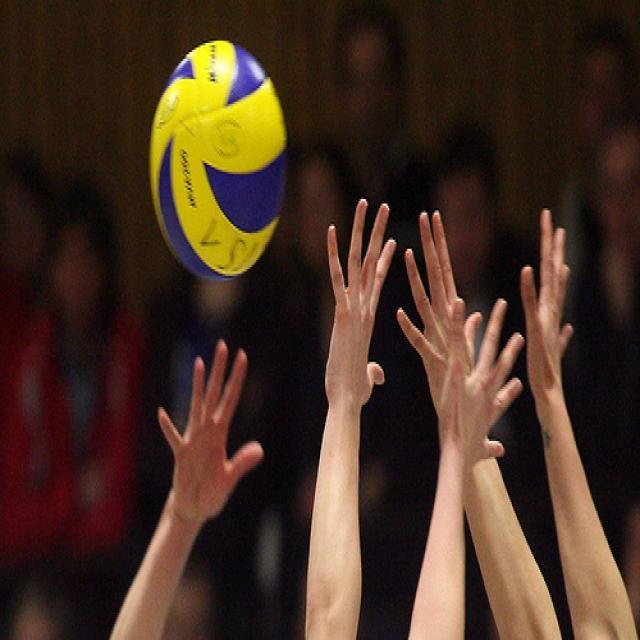volleyball: (150, 38, 288, 282)
